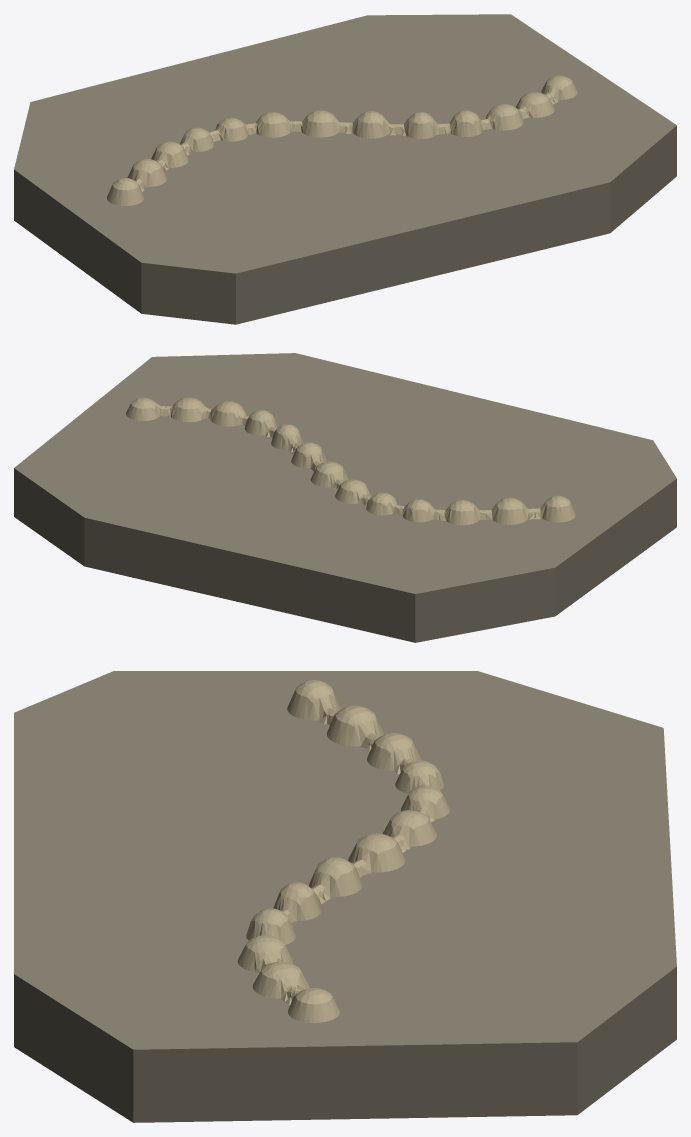
The picture shows the model from 3 angles, top to bottom: view 1: azimuth 30°, elevation 25°; view 2: azimuth 150°, elevation 25°; view 3: azimuth 270°, elevation 25°; orthographic projection. The views are drawn at different scales.
Visible parts, largest first — view 1: integrated-full-volume-trace-relief; view 2: integrated-full-volume-trace-relief; view 3: integrated-full-volume-trace-relief.
Boxes of the visible parts, x1,y1,x2,y2 form: integrated-full-volume-trace-relief: [14, 14, 676, 324]; integrated-full-volume-trace-relief: [14, 353, 676, 642]; integrated-full-volume-trace-relief: [14, 671, 676, 1122].
Size of the model in its own units: 0.1 by 0.0123 by 0.074.
